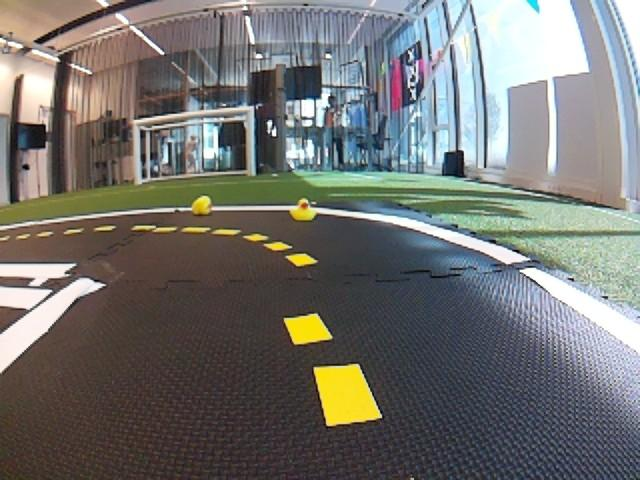Duckies: (289, 197, 316, 221), (191, 195, 212, 216)
